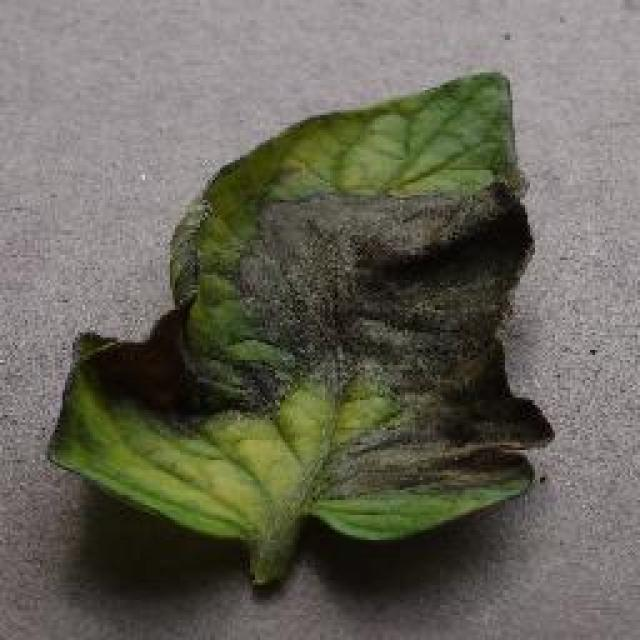Tomato Late Blight: (140, 135, 560, 512)
